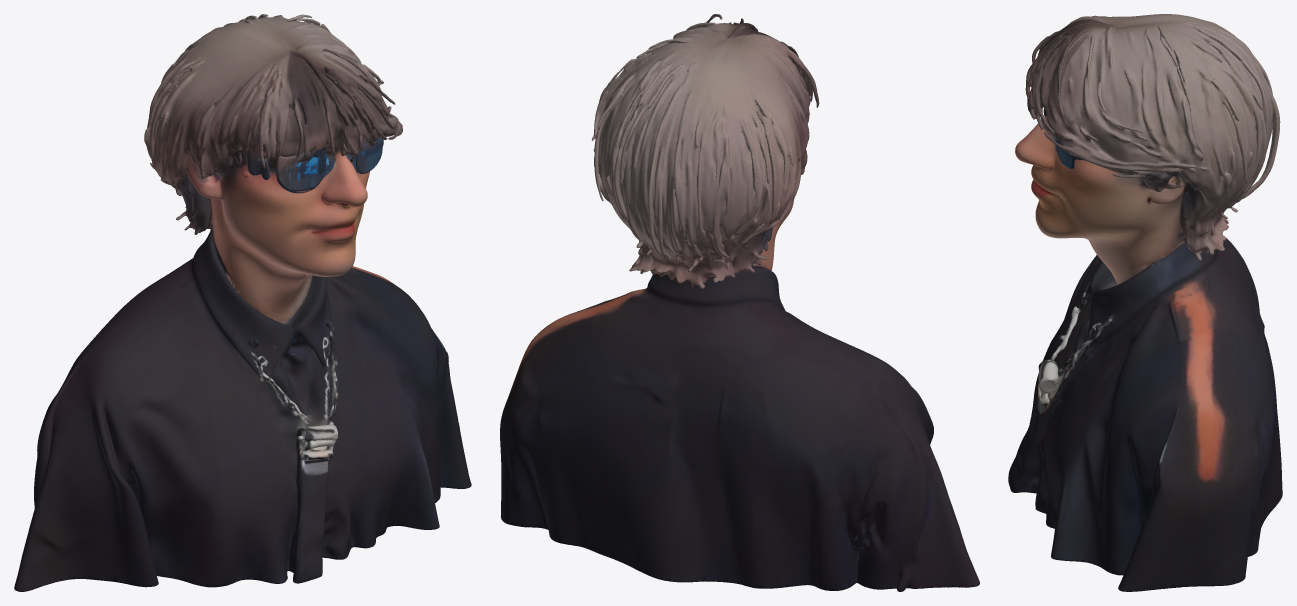
The model's file is avatar.glb.
3 renders of one model, left to right at view 1: azimuth 30°, elevation 25°; view 2: azimuth 150°, elevation 25°; view 3: azimuth 270°, elevation 25°, orthographic.
Visible parts, largest first — view 1: tripo_node_d571b8eb-d660-42b3-aead-e7fc43be5465; view 2: tripo_node_d571b8eb-d660-42b3-aead-e7fc43be5465; view 3: tripo_node_d571b8eb-d660-42b3-aead-e7fc43be5465.
Boxes of the visible parts, box(x1,y1,x2,y2) form: tripo_node_d571b8eb-d660-42b3-aead-e7fc43be5465: box(14, 14, 471, 591); tripo_node_d571b8eb-d660-42b3-aead-e7fc43be5465: box(500, 14, 979, 591); tripo_node_d571b8eb-d660-42b3-aead-e7fc43be5465: box(1008, 14, 1282, 591).
Bounding box in the file's own units: 0.9579 × 1 × 0.511.
Materials: 1 (1 with a texture image).
